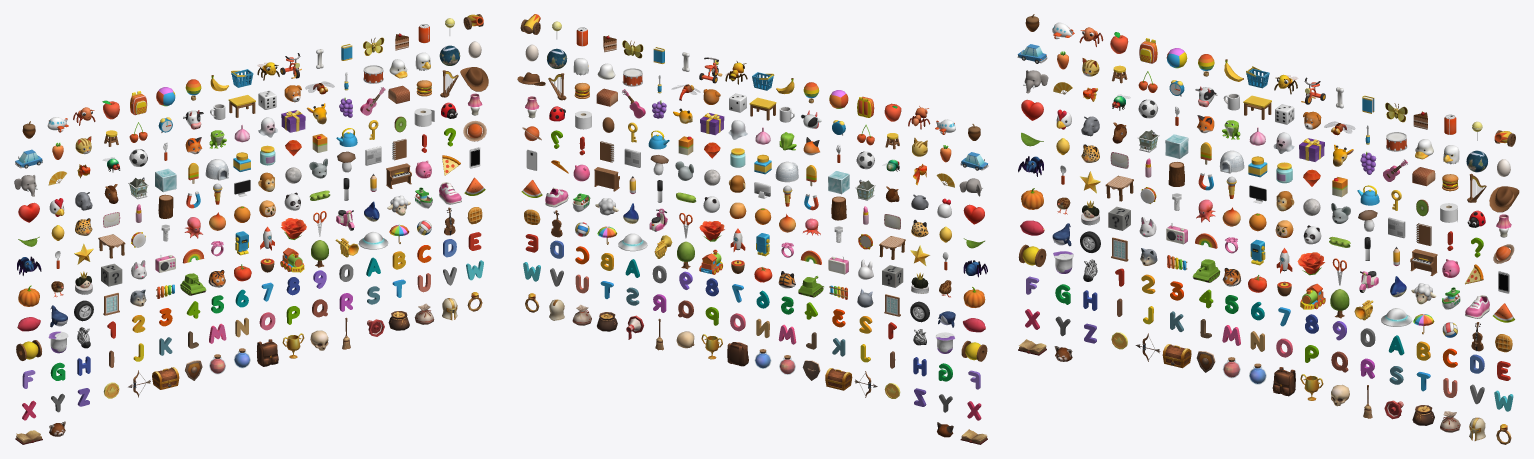
File: 3D_Props_-_Adorable_Items.glb
3 views of the same model, side by side, from view 1: azimuth 30°, elevation 25°; view 2: azimuth 150°, elevation 25°; view 3: azimuth 330°, elevation 25° (orthographic). The views are drawn at different scales.
Parts seen in each view (by area): view 1: hat_Material #2945_0, backpack_Material #2947_0, treasure chest_Material #2947_0, piano_Material #2946_0, giftbox_Material #2945_0; view 2: treasure chest_Material #2947_0, piano_Material #2946_0, backpack_Material #2947_0; view 3: hat_Material #2945_0, backpack_Material #2947_0, treasure chest_Material #2947_0, piano_Material #2946_0, giftbox_Material #2945_0, ice_Material #2945_0, train_Material #2947_0.
Boxes of the visible parts, <box> form: hat_Material #2945_0: <box>460,67,488,91</box>; backpack_Material #2947_0: <box>256,339,278,366</box>; treasure chest_Material #2947_0: <box>152,367,179,389</box>; piano_Material #2946_0: <box>386,163,411,188</box>; giftbox_Material #2945_0: <box>281,110,305,132</box>; treasure chest_Material #2947_0: <box>825,368,852,390</box>; piano_Material #2946_0: <box>594,167,619,191</box>; backpack_Material #2947_0: <box>727,342,748,366</box>; hat_Material #2945_0: <box>1489,186,1519,212</box>; backpack_Material #2947_0: <box>1272,367,1295,396</box>; treasure chest_Material #2947_0: <box>1162,344,1191,368</box>; piano_Material #2946_0: <box>1410,249,1437,275</box>; giftbox_Material #2945_0: <box>1299,138,1324,161</box>; ice_Material #2945_0: <box>1165,134,1188,158</box>; train_Material #2947_0: <box>1300,283,1325,309</box>.
Size of the model in its own units: 1094 by 720 by 66.07.
Materials: 5 (5 with a texture image).
